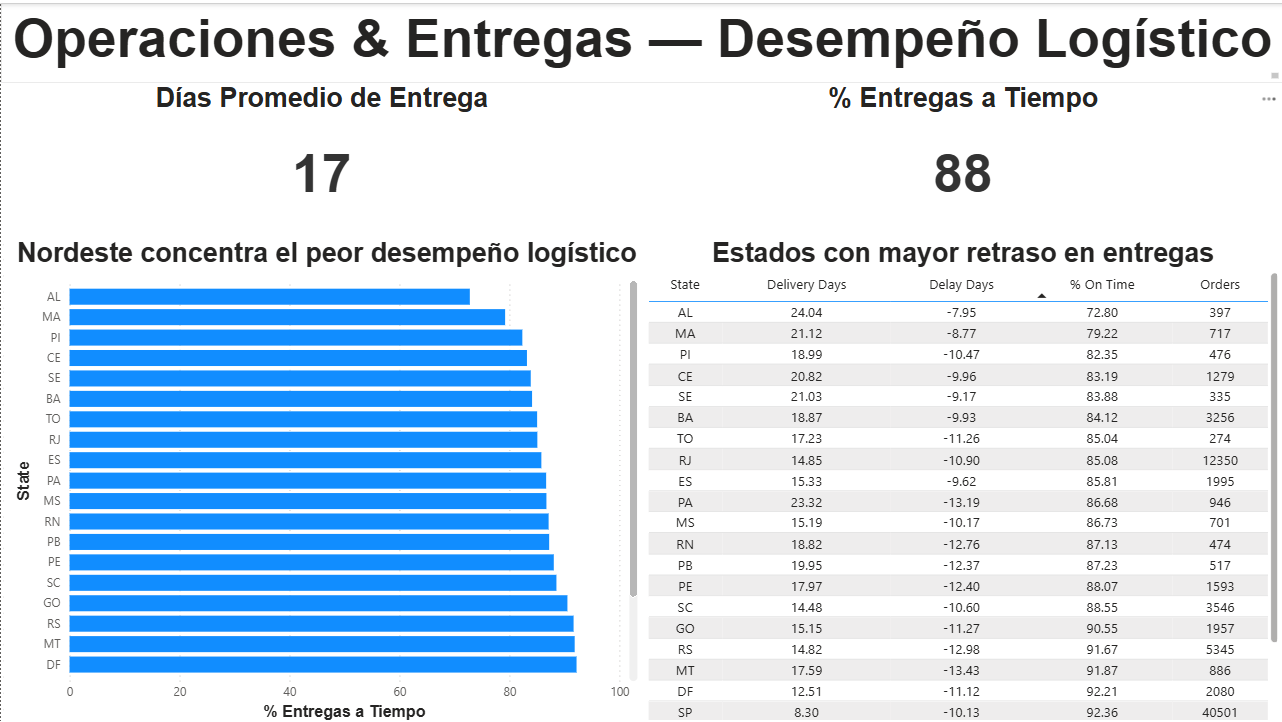

What the dashboard file says about the page in this screenshot:
{"tool":"powerbi","page":{"name":"Operaciones","canvas":[1280,720],"ordinal":1},"visuals":[{"type":"advanceCardE03760C5AB684758B56AA29F9E6C257B","title":"Días Promedio de Entrega","fields":{"mainMeasure":["raw v_entregas_estado.Avg Delivery Days"]},"box":[0,80,640,154.3],"z":0},{"type":"advanceCardE03760C5AB684758B56AA29F9E6C257B","title":"% Entregas a Tiempo","fields":{"mainMeasure":["raw v_entregas_estado.Pct On Time"]},"box":[640,80,640,154.3],"z":1000},{"type":"tableEx","title":"Estados con mayor retraso en entregas","fields":{"Values":["raw v_entregas_estado.customer_state","raw v_entregas_estado.avg_delivery_days","raw v_entregas_estado.avg_delay_days","raw v_entregas_estado.pct_on_time","raw v_entregas_estado.total_orders"]},"box":[640,234.3,640,485.7],"z":2000},{"type":"clusteredBarChart","title":"Nordeste concentra el peor desempeño logístico","fields":{"Category":["raw v_entregas_estado.customer_state"],"Y":["Avg(raw v_entregas_estado.pct_on_time)"]},"box":[10,234.3,630,485.7],"z":3000},{"type":"textbox","title":"Operaciones & Entregas — Desempeño Logístico","box":[0,0,1280,80],"z":3001}]}

Visuals, with their boxes in screenshot pixels (x1, y1, x2, y2), scaled from the page's 1280x720 canvas onto the 1282x722 screenshot:
"Días Promedio de Entrega" advanceCardE03760C5AB684758B56AA29F9E6C257B: (0,80,641,235)
"% Entregas a Tiempo" advanceCardE03760C5AB684758B56AA29F9E6C257B: (641,80,1281,235)
"Estados con mayor retraso en entregas" tableEx: (641,235,1281,721)
"Nordeste concentra el peor desempeño logístico" clusteredBarChart: (10,235,641,721)
"Operaciones & Entregas — Desempeño Logístico" textbox: (0,0,1281,80)
